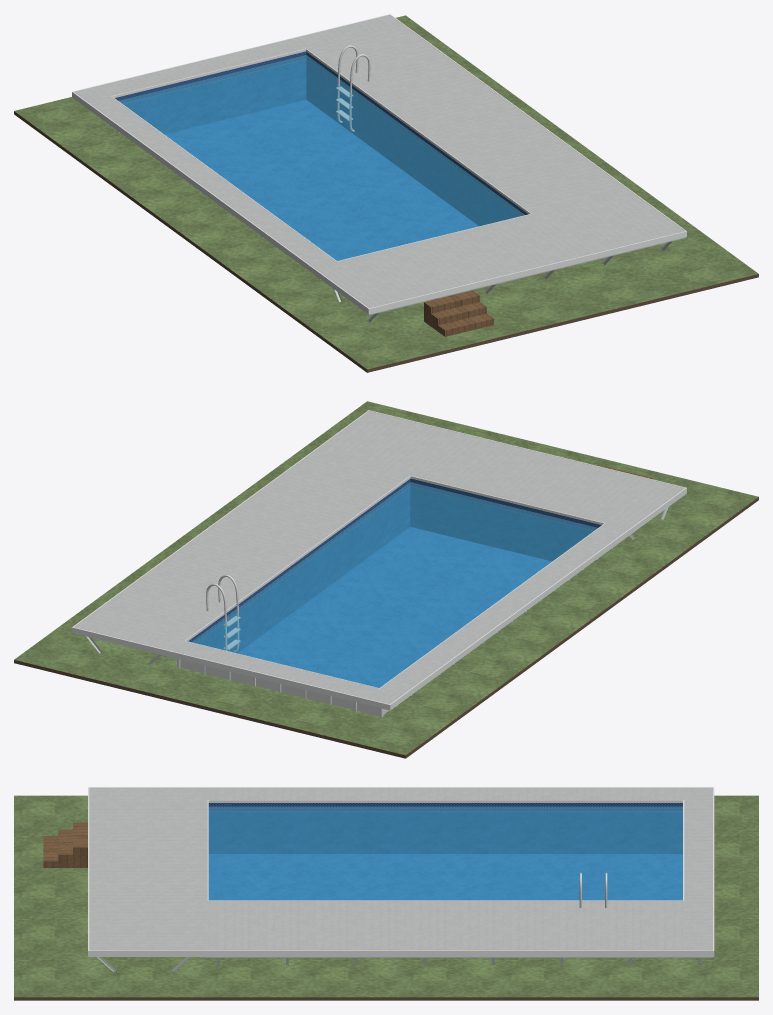
The model's file is kayak-pool-16x32-white-endside-rec-nofence.62d4c6c3fa.glb.
The picture shows the model from 3 angles, top to bottom: view 1: azimuth 30°, elevation 25°; view 2: azimuth 150°, elevation 25°; view 3: azimuth 270°, elevation 25°; orthographic projection. The views are drawn at different scales.
Visible parts, largest first — view 1: deck, water, ground, liner_floor, liner_wall, fascia, soil, steps, steel, stud; view 2: deck, water, ground, liner_floor, liner_wall, fascia, soil, wall, steel; view 3: deck, ground, water, liner_wall, liner_floor, fascia, soil, steps, stud.
Part boxes in pixels (bbox=[...]): deck: bbox=[74, 15, 684, 308]; water: bbox=[119, 55, 524, 260]; ground: bbox=[14, 15, 758, 369]; liner_floor: bbox=[164, 100, 478, 260]; liner_wall: bbox=[115, 51, 527, 226]; fascia: bbox=[72, 14, 686, 314]; soil: bbox=[14, 111, 758, 372]; steps: bbox=[424, 290, 493, 336]; steel: bbox=[336, 45, 370, 131]; stud: bbox=[315, 237, 685, 322]; deck: bbox=[74, 411, 684, 704]; water: bbox=[192, 482, 597, 687]; ground: bbox=[14, 401, 758, 755]; liner_floor: bbox=[237, 527, 551, 687]; liner_wall: bbox=[188, 478, 601, 653]; fascia: bbox=[72, 410, 686, 710]; soil: bbox=[14, 497, 758, 758]; wall: bbox=[180, 659, 389, 715]; steel: bbox=[206, 574, 240, 652]; deck: bbox=[89, 788, 712, 950]; ground: bbox=[14, 795, 758, 997]; water: bbox=[208, 806, 682, 900]; liner_wall: bbox=[208, 803, 682, 853]; liner_floor: bbox=[208, 854, 682, 900]; fascia: bbox=[88, 787, 714, 956]; soil: bbox=[14, 997, 758, 1000]; steps: bbox=[43, 822, 87, 867]; stud: bbox=[89, 957, 712, 971].
Bounding box in the file's own units: 9.75 × 1.9 × 15.23.
Materials: 12 (5 with a texture image).
